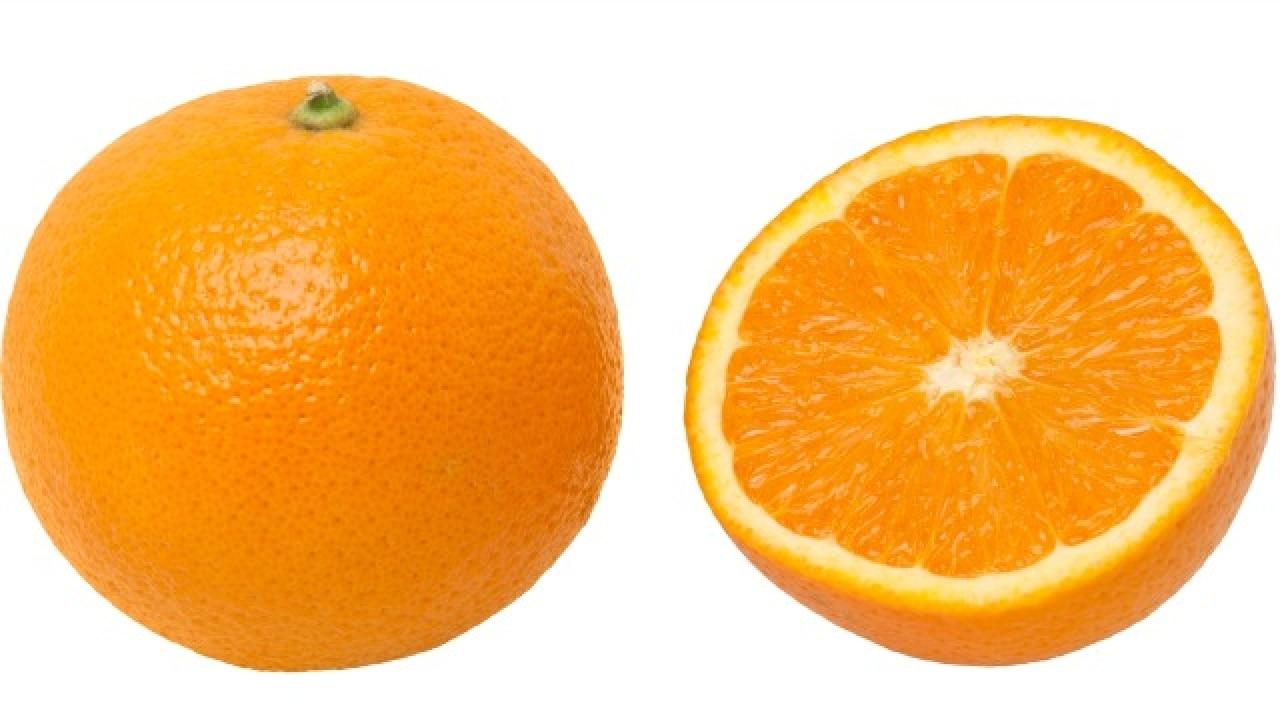orange: (11, 69, 623, 686), (670, 98, 1275, 673)
